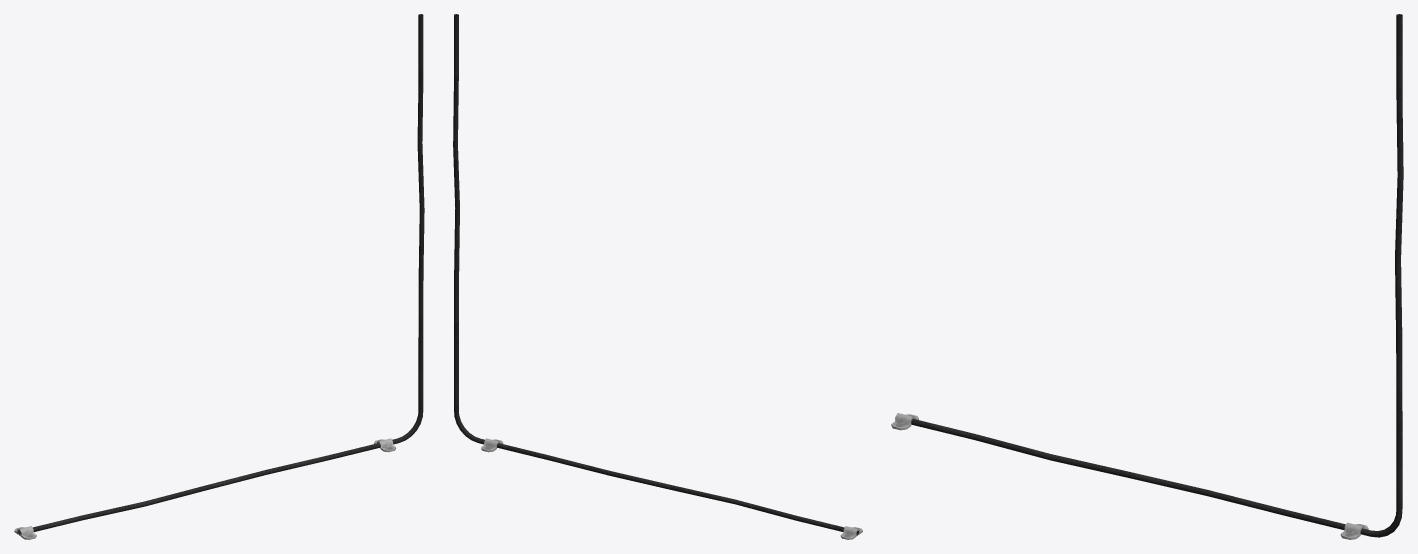
Rendered from Cable_50cm_corner_in.fbx.
3 renders of one model, left to right at view 1: azimuth 30°, elevation 25°; view 2: azimuth 150°, elevation 25°; view 3: azimuth 330°, elevation 25°, orthographic. The views are drawn at different scales.
Visible parts, largest first — view 1: Cable_50cm_corner_in; view 2: Cable_50cm_corner_in; view 3: Cable_50cm_corner_in.
Part boxes in pixels (<box>): Cable_50cm_corner_in: <box>14,14,424,539</box>; Cable_50cm_corner_in: <box>453,14,862,539</box>; Cable_50cm_corner_in: <box>891,14,1403,539</box>.
Bounding box in the file's own units: 50 × 50 × 2.92.
